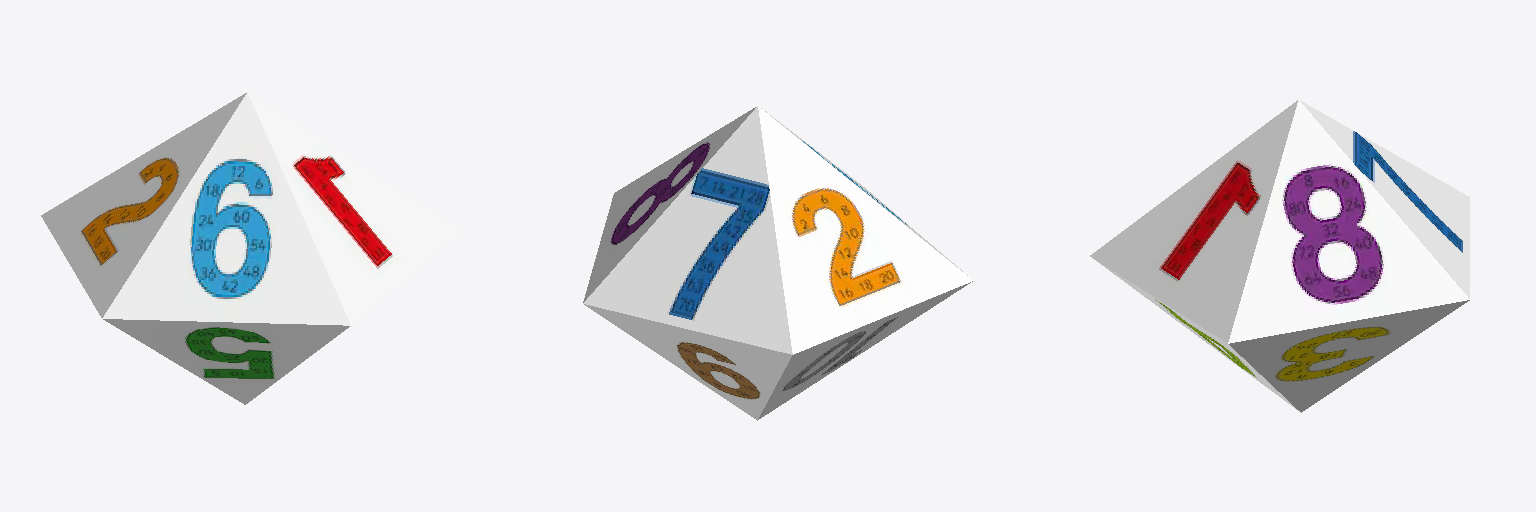
3 views of the same model, side by side, from view 1: azimuth 30°, elevation 25°; view 2: azimuth 150°, elevation 25°; view 3: azimuth 270°, elevation 25° (orthographic).
Visible parts, largest first — view 1: obj_0; view 2: obj_0; view 3: obj_0.
Boxes of the visible parts, x1,y1,x2,y2 form: obj_0: [41, 92, 460, 404]; obj_0: [583, 106, 972, 420]; obj_0: [1090, 100, 1469, 412].
Size of the model in its own units: 12 by 10 by 11.
1 materials, 1 textured.